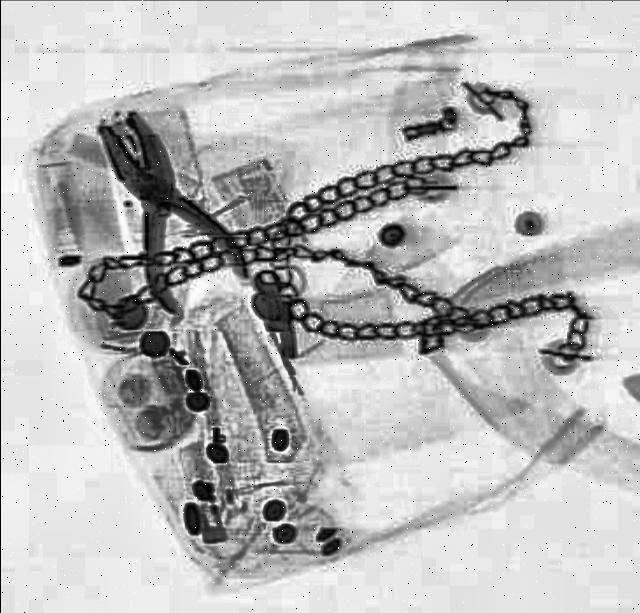Pliers: (62, 99, 254, 319)
